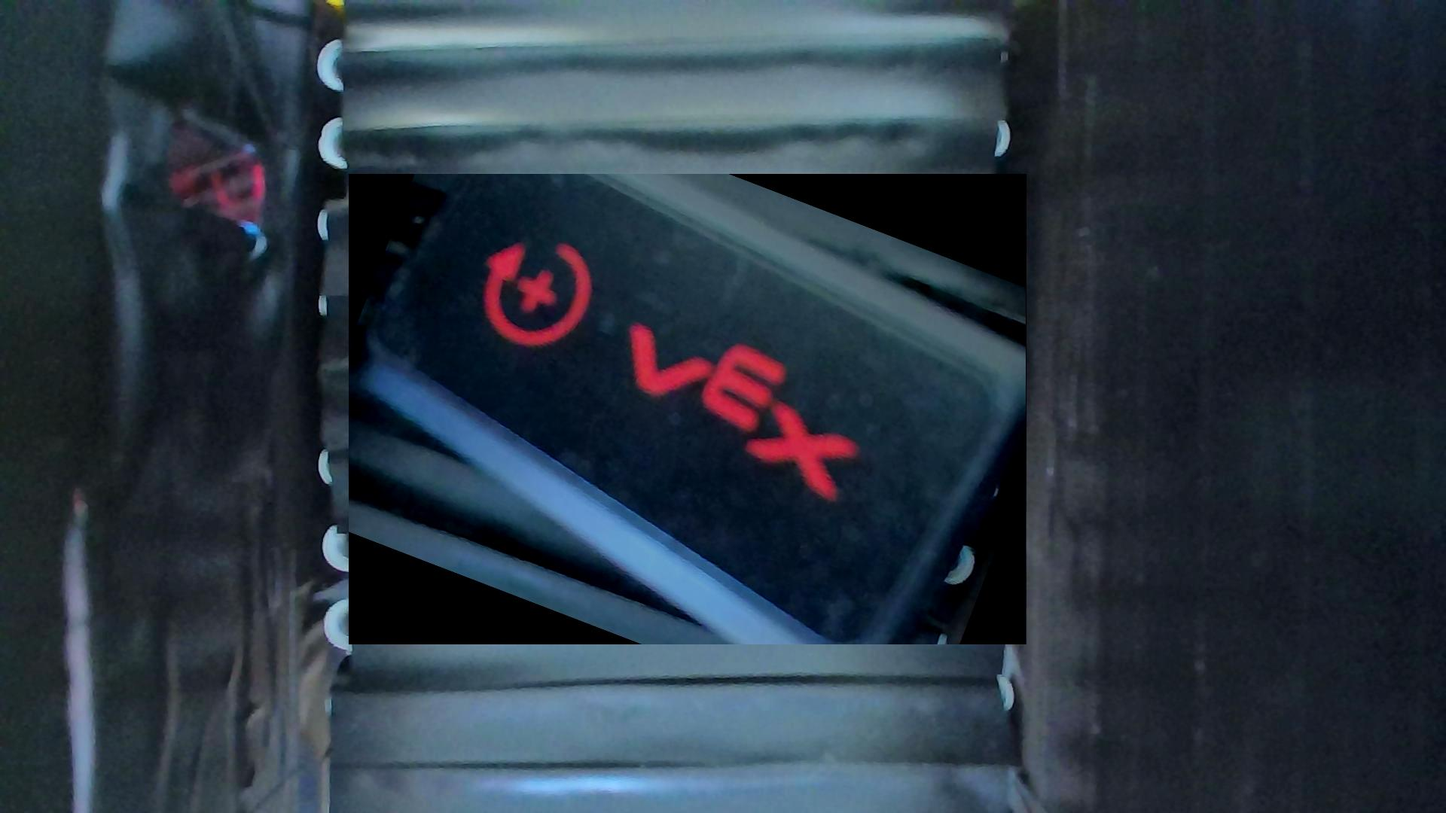motor: (349, 174, 1027, 644)
